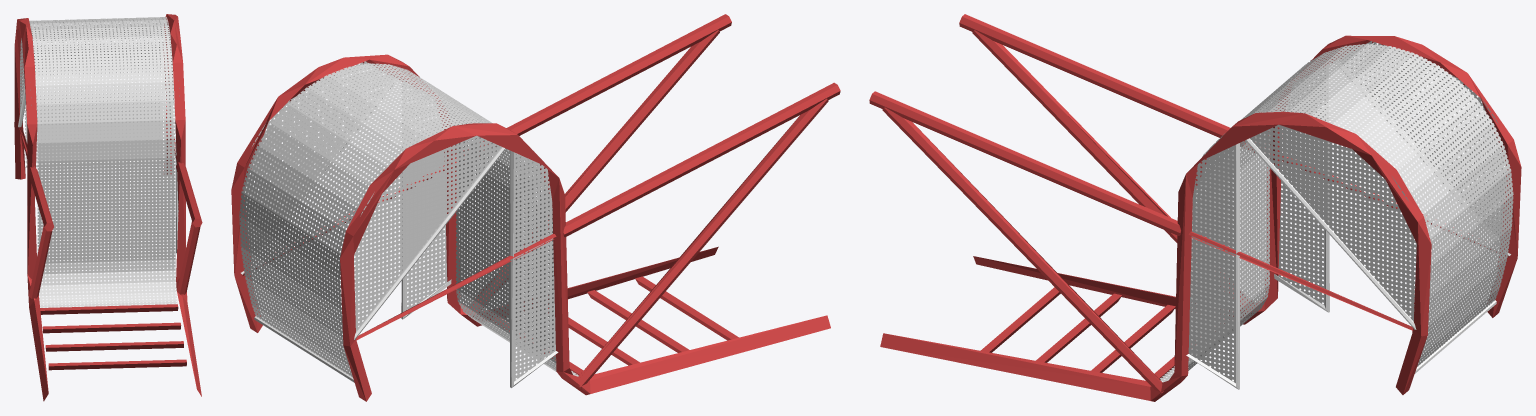
The model's file is Low구조대의자 1.fbx.
The picture shows the model from 3 angles, left to right: view 1: azimuth 30°, elevation 25°; view 2: azimuth 150°, elevation 25°; view 3: azimuth 270°, elevation 25°; orthographic projection. The views are drawn at different scales.
Visible parts, largest first — view 1: Group_168478, D_12_00, D_12_00_1, D_10_00_1 (×2), D_8_00_2, D_8_00, D_8_00_1, D_8_00_3, D_10_00_1_1, D_10_00, Group_168490, D_4_00_4; view 2: Group_168478, D_12_00, Group_168490, D_10_00_1 (×2), Group_168503, D_12_00_1, D_10_00, D_10_00_1_1, Group_168520, Group_168507, D_4_00_1, D_5_00 (+5 smaller); view 3: Group_168478, D_12_00_1, Group_168507, Group_168520, D_10_00_1 (×2), D_12_00, D_10_00_1_1, Group_168503, D_10_00, Group_168490, D_4_00_3, D_5_00_1 (+5 smaller).
Part boxes in pixels (bbox=[...]): Group_168478: bbox=[24, 17, 177, 307]; D_12_00: bbox=[14, 18, 48, 401]; D_12_00_1: bbox=[163, 14, 201, 396]; D_10_00_1 (×2): bbox=[29, 162, 202, 298]; D_8_00_2: bbox=[45, 341, 183, 351]; D_8_00: bbox=[40, 304, 178, 314]; D_8_00_1: bbox=[48, 359, 186, 370]; D_8_00_3: bbox=[42, 322, 181, 333]; D_10_00_1_1: bbox=[177, 222, 200, 294]; D_10_00: bbox=[27, 166, 53, 231]; Group_168490: bbox=[20, 38, 24, 112]; D_4_00_4: bbox=[176, 143, 178, 254]; Group_168478: bbox=[239, 63, 578, 377]; D_12_00: bbox=[340, 123, 830, 401]; Group_168490: bbox=[354, 135, 501, 331]; D_10_00_1 (×2): bbox=[455, 14, 828, 388]; Group_168503: bbox=[514, 148, 555, 381]; D_12_00_1: bbox=[231, 54, 718, 332]; D_10_00: bbox=[563, 82, 840, 237]; D_10_00_1_1: bbox=[471, 30, 719, 319]; Group_168520: bbox=[405, 84, 447, 309]; Group_168507: bbox=[244, 61, 393, 254]; D_4_00_1: bbox=[354, 147, 505, 339]; D_5_00: bbox=[356, 234, 556, 340]; Group_168478: bbox=[1160, 43, 1513, 382]; D_12_00_1: bbox=[880, 111, 1431, 401]; Group_168507: bbox=[1250, 124, 1416, 321]; Group_168520: bbox=[1188, 137, 1235, 383]; D_10_00_1 (×2): bbox=[869, 30, 1253, 311]; D_12_00: bbox=[973, 35, 1521, 324]; D_10_00_1_1: bbox=[882, 107, 1163, 394]; Group_168503: bbox=[1278, 60, 1325, 305]; D_10_00: bbox=[959, 14, 1270, 158]; Group_168490: bbox=[1339, 41, 1506, 237]; D_4_00_3: bbox=[1245, 138, 1416, 329]; D_5_00_1: bbox=[1188, 231, 1412, 330].
Bounding box in the file's own units: 135 × 102 × 189.
